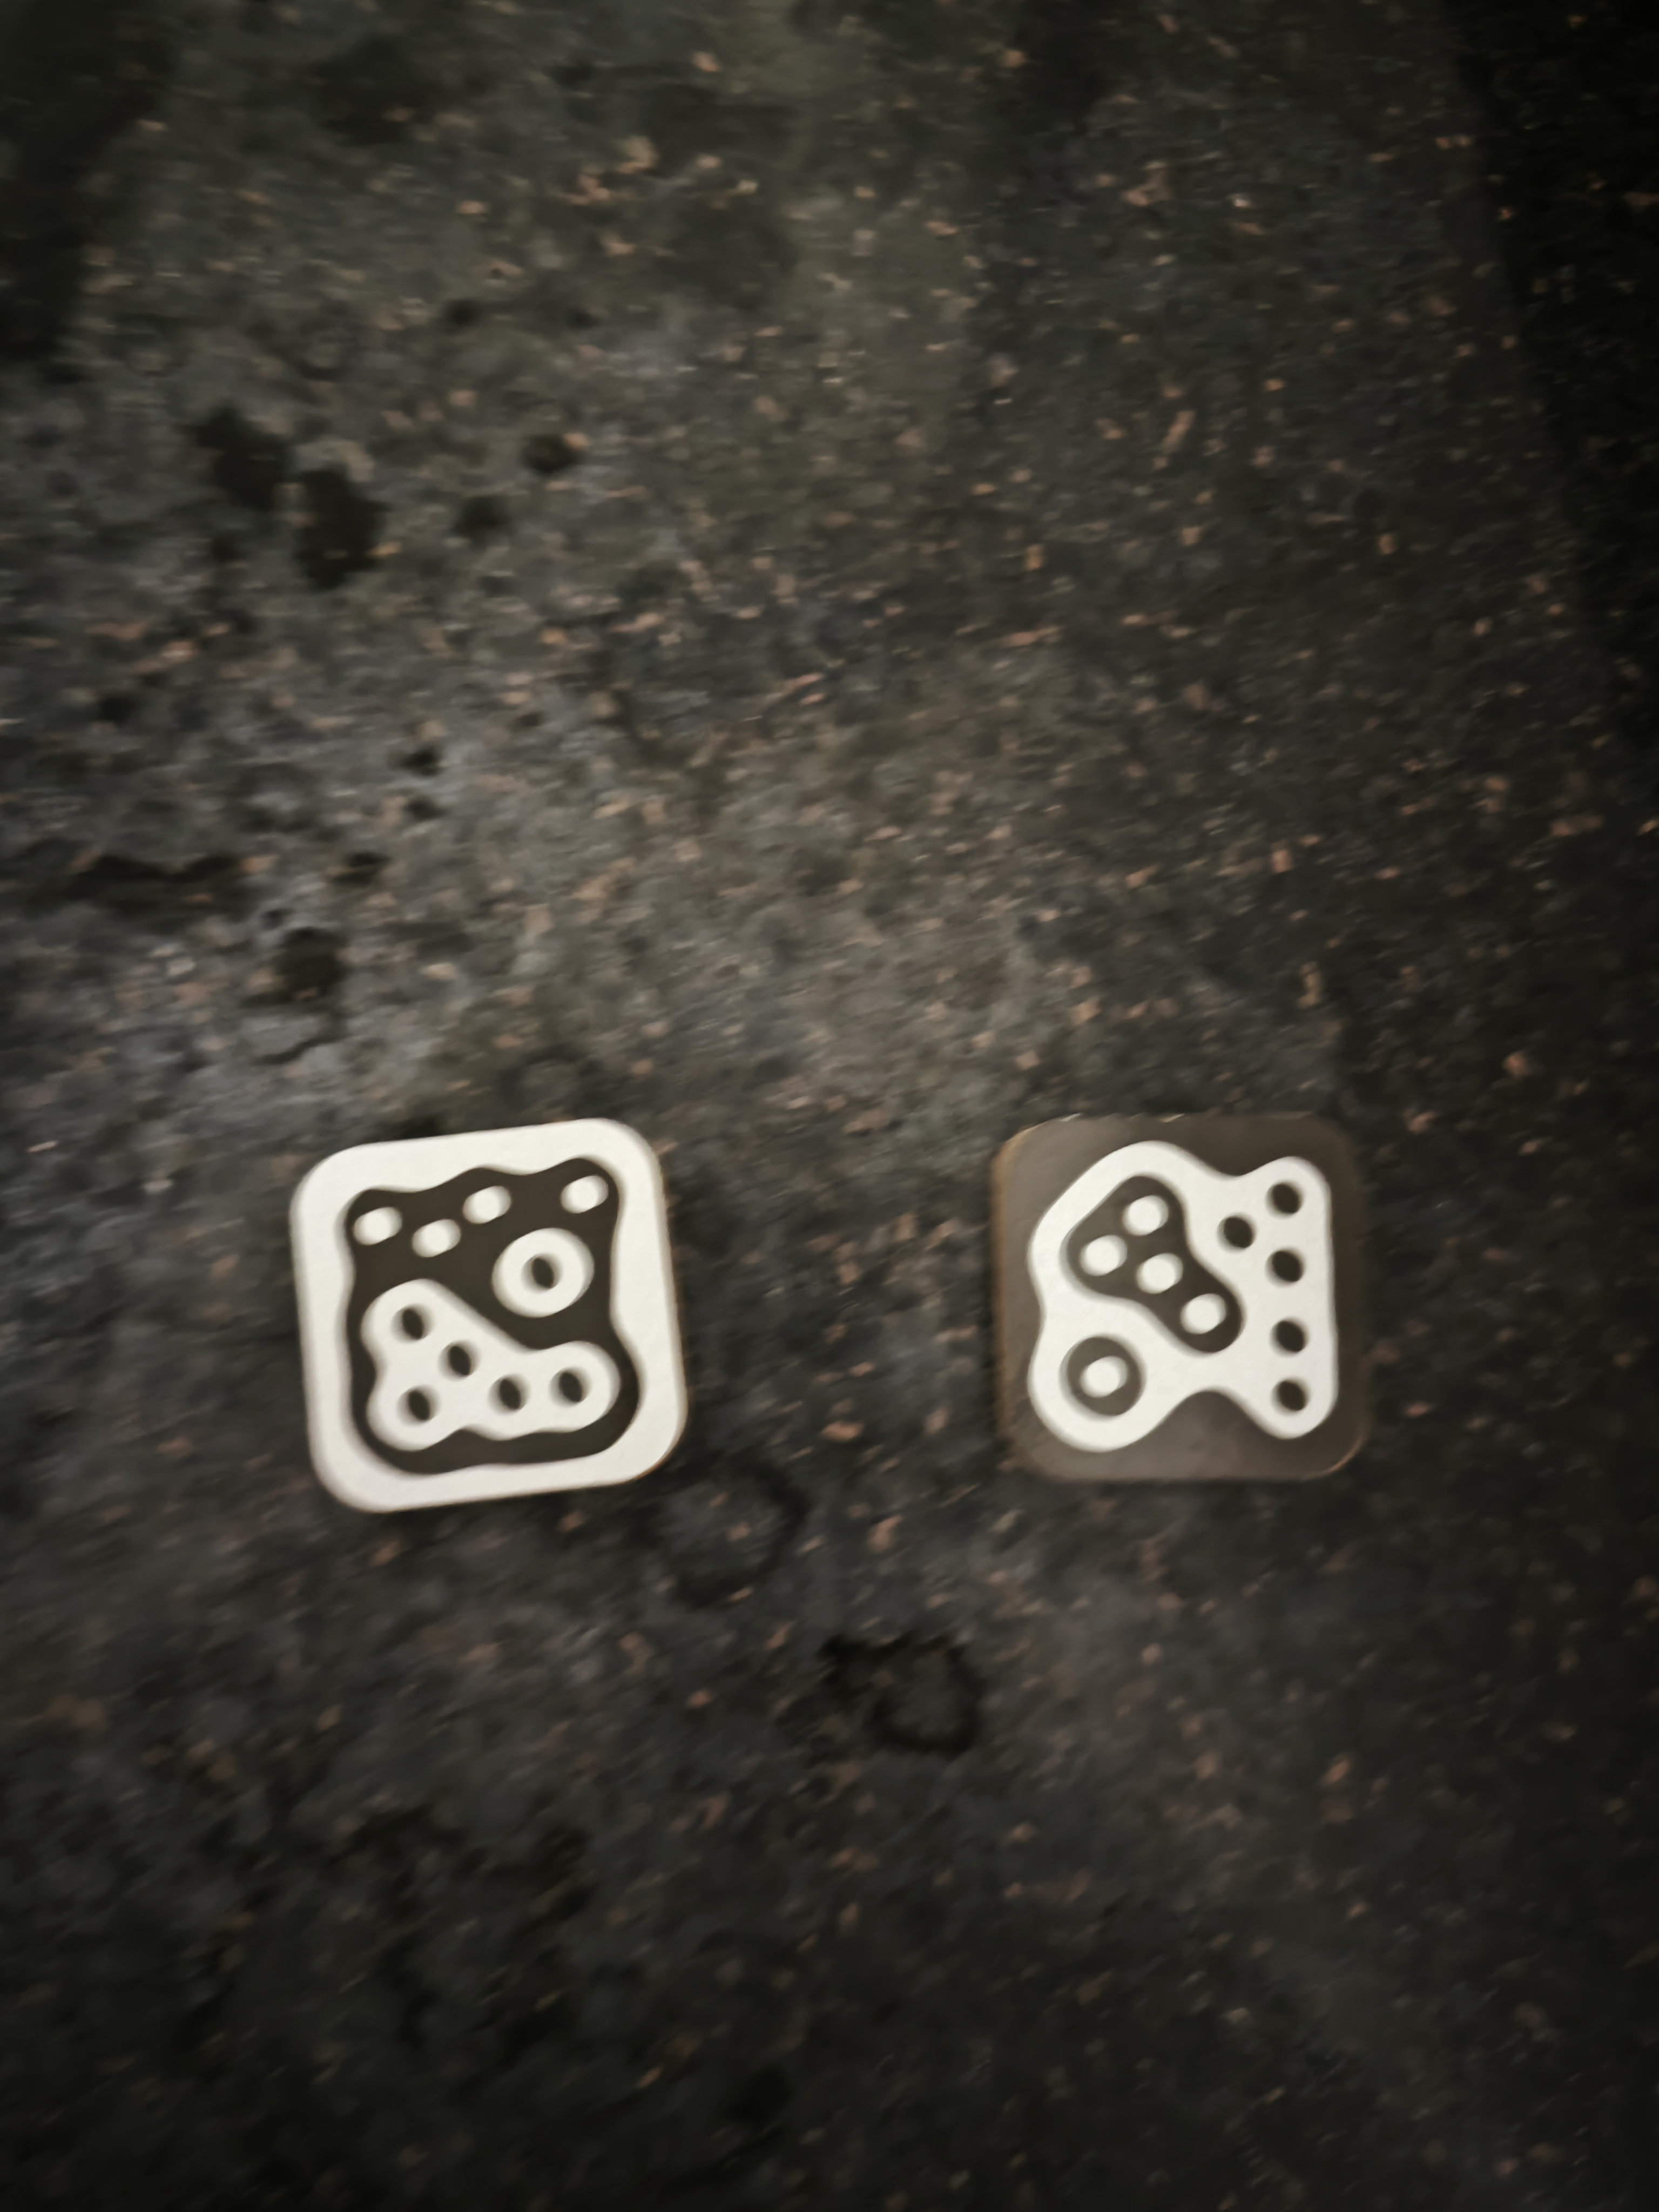mark1: (321, 1157, 655, 1482)
mark2: (1021, 1125, 1345, 1461)
